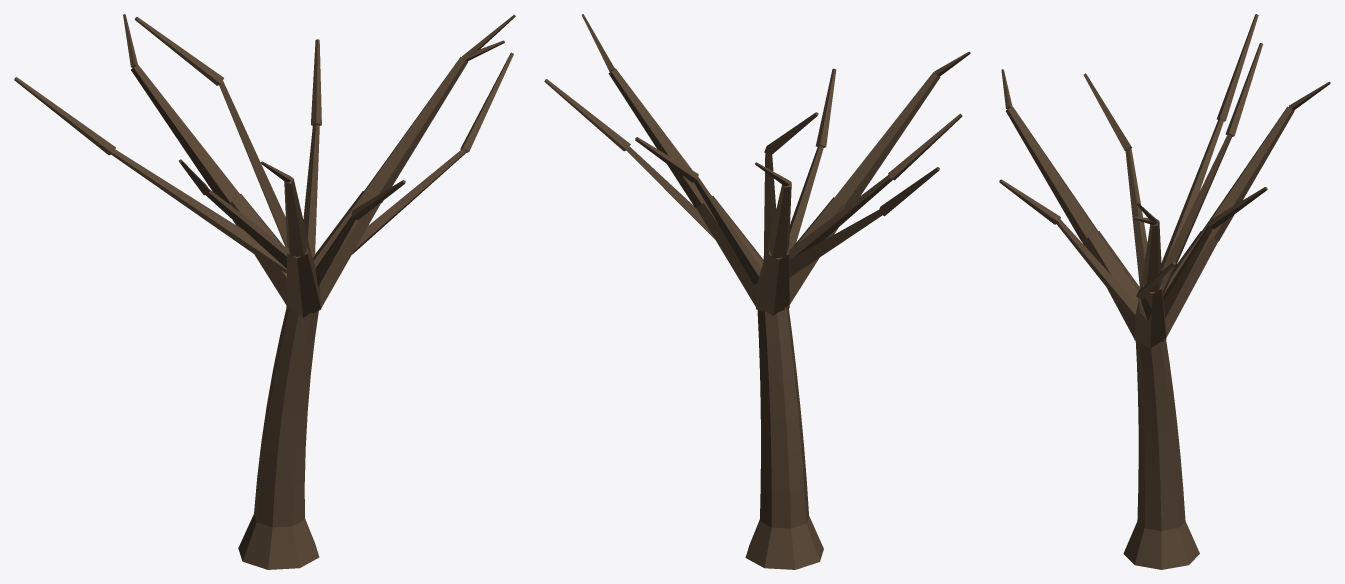
The model's file is dead.glb.
3 views of the same model, side by side, from view 1: azimuth 30°, elevation 25°; view 2: azimuth 150°, elevation 25°; view 3: azimuth 270°, elevation 25° (orthographic). The views are drawn at different scales.
Parts seen in each view (by area): view 1: mata_atlantica_manaca_morta_tronco_LOD0; view 2: mata_atlantica_manaca_morta_tronco_LOD0; view 3: mata_atlantica_manaca_morta_tronco_LOD0.
Part boxes in pixels (x1=…): mata_atlantica_manaca_morta_tronco_LOD0: x1=14, y1=14, x2=515, y2=569; mata_atlantica_manaca_morta_tronco_LOD0: x1=544, y1=14, x2=970, y2=569; mata_atlantica_manaca_morta_tronco_LOD0: x1=999, y1=14, x2=1330, y2=569.
Size of what is drawn, in the model's own units: 4.02 by 4.38 by 2.78.
